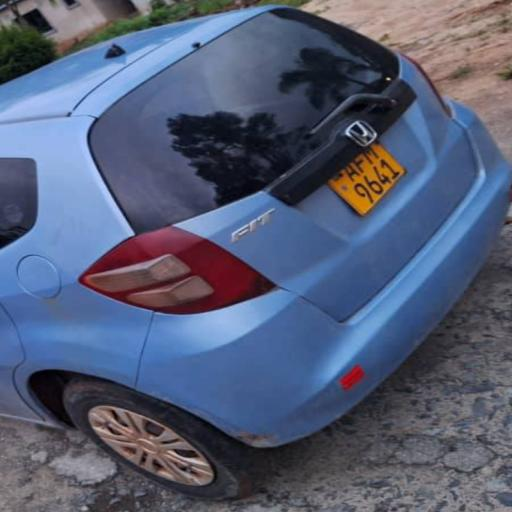number-plates: (338, 137, 414, 208)
